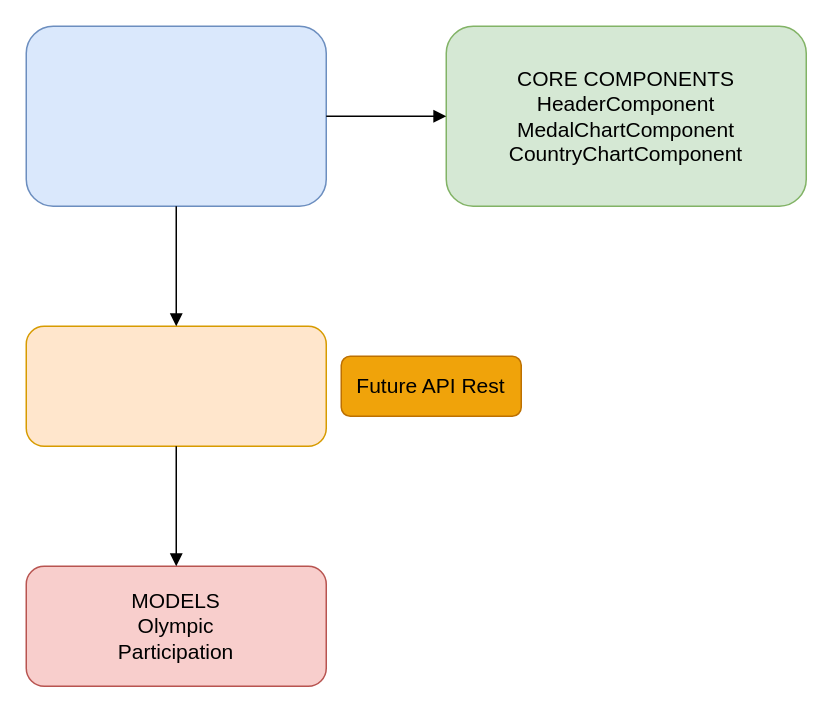
Some shapes in this 833 by 713 pixel diagram are drawn without their labels. The shapes that lost their labels are listed below. From the top down, each one's centre as x and y in pixels, then its label:
At [175,115]: "PAGES HomeComponent CountryComponent NotFoundComponent".
At [175,385]: "OlympicService (Singleton)".
